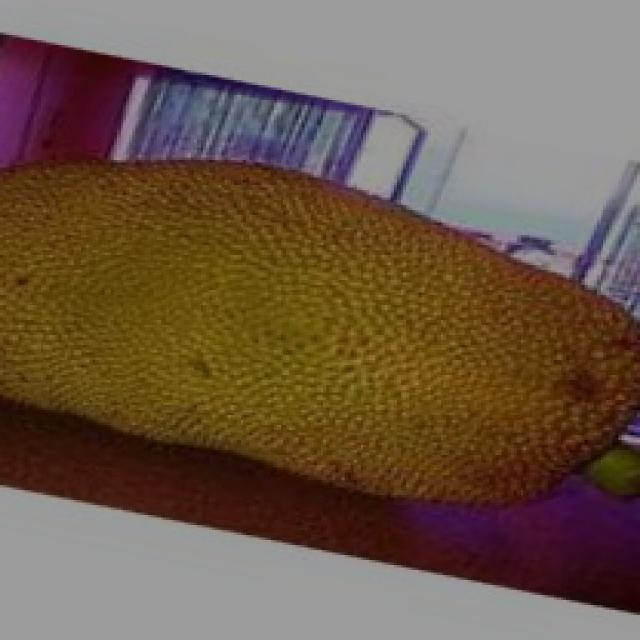Fruit: (0, 107, 403, 525), (252, 130, 640, 548)
